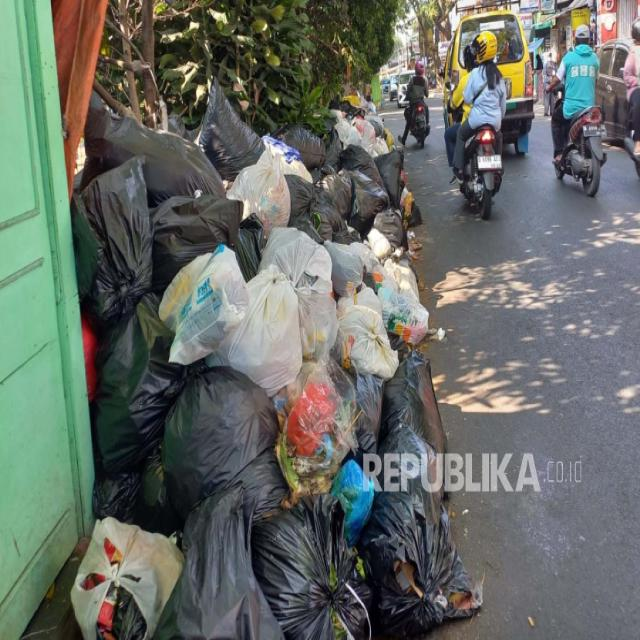trash: (63, 141, 421, 640)
